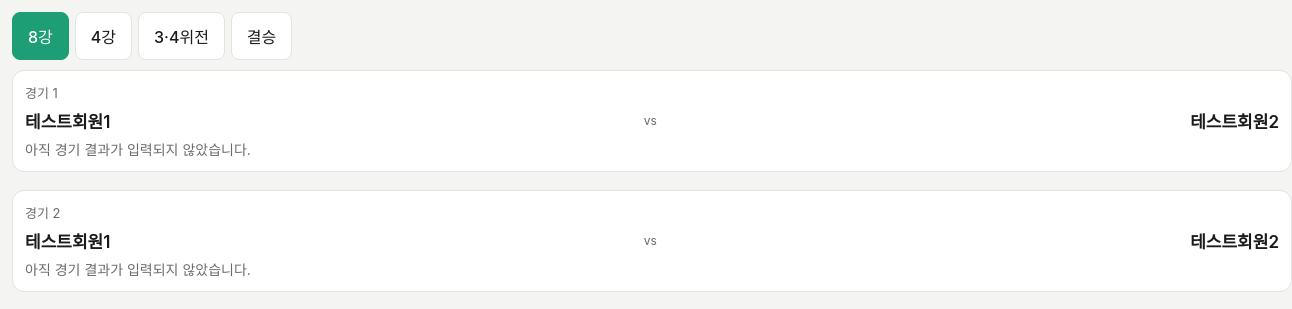
Test: 라운드 탭 순서 › 3·4위전 탭을 눌러도 기존 필터 동작이 그대로 유지된다(그 라운드 경기만 보인다)
The width and height of the screenshot is (1292, 309).
Click the button "3·4위전": (181, 36) [138,12,225,60]
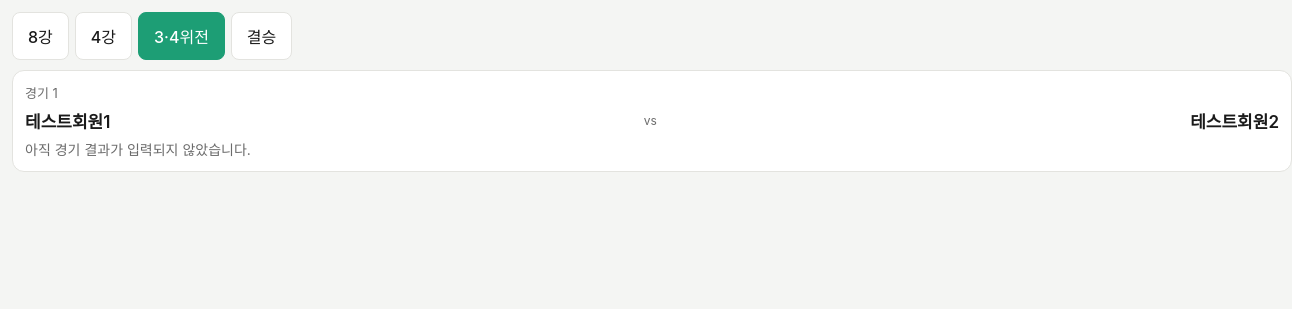
Expected: the text "테스트회원1" is shown, [25,108,110,133]
Result: the text "경기 2" is gone
